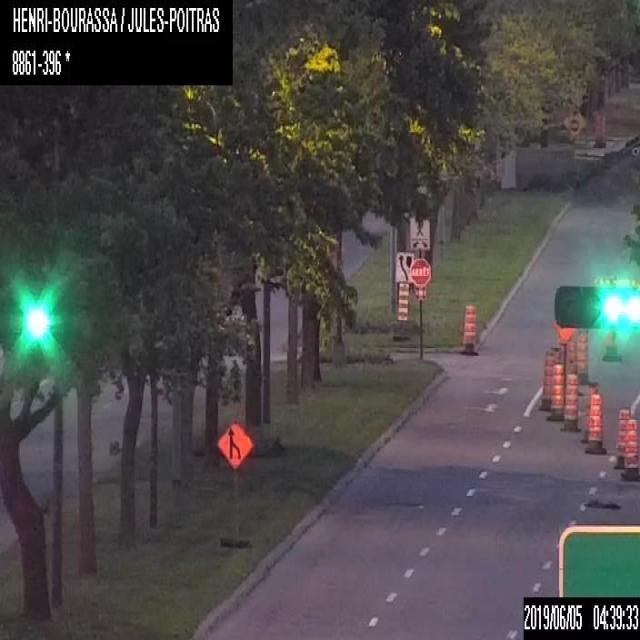construction: (214, 420, 255, 548), (560, 372, 580, 430), (622, 415, 639, 480), (613, 406, 630, 470), (546, 363, 565, 420), (586, 392, 604, 452), (538, 350, 555, 409), (581, 382, 597, 442), (576, 326, 590, 385), (600, 322, 620, 360), (463, 305, 476, 354), (565, 332, 577, 385), (594, 114, 604, 146)
